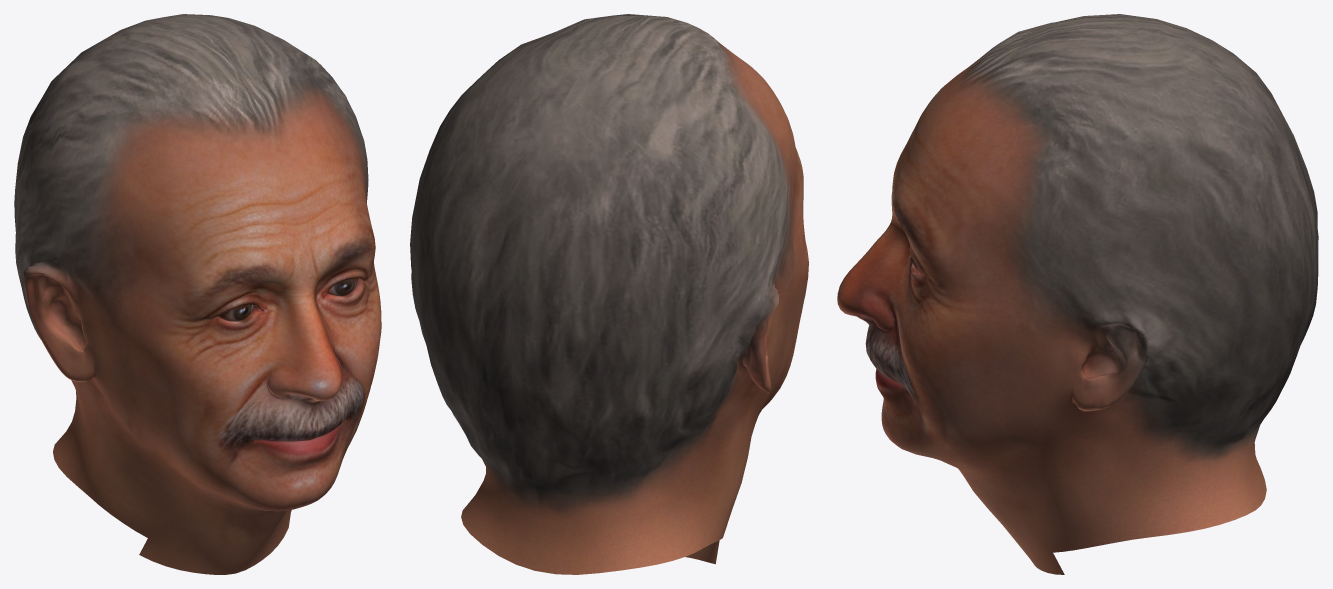
3 renders of one model, left to right at view 1: azimuth 30°, elevation 25°; view 2: azimuth 150°, elevation 25°; view 3: azimuth 270°, elevation 25°, orthographic. The views are drawn at different scales.
Parts seen in each view (by area): view 1: AvatarHead; view 2: AvatarHead; view 3: AvatarHead.
Boxes of the visible parts, x1,y1,x2,y2 form: AvatarHead: [14, 14, 381, 574]; AvatarHead: [410, 14, 808, 574]; AvatarHead: [837, 14, 1318, 574].
Bounding box in the file's own units: 19.1 × 28.71 × 23.64.
Materials: 7 (7 with a texture image).
